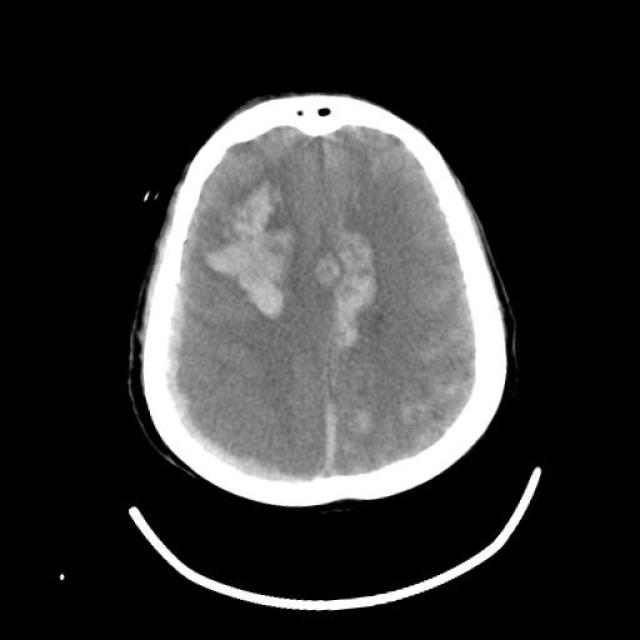Intraparenchymal: (194, 176, 314, 338), (295, 225, 404, 364)
Subarachnoid: (378, 365, 493, 455)
Subdural: (101, 208, 245, 504), (234, 379, 367, 505)
